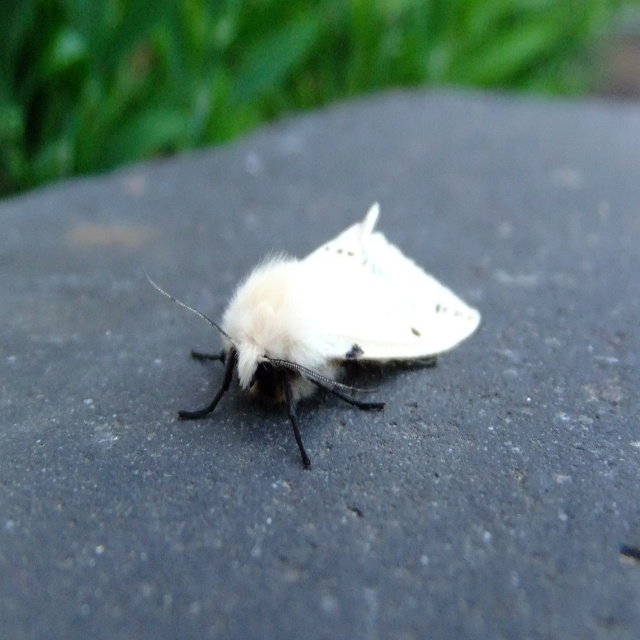Moths and butterflies: (138, 198, 484, 473)
